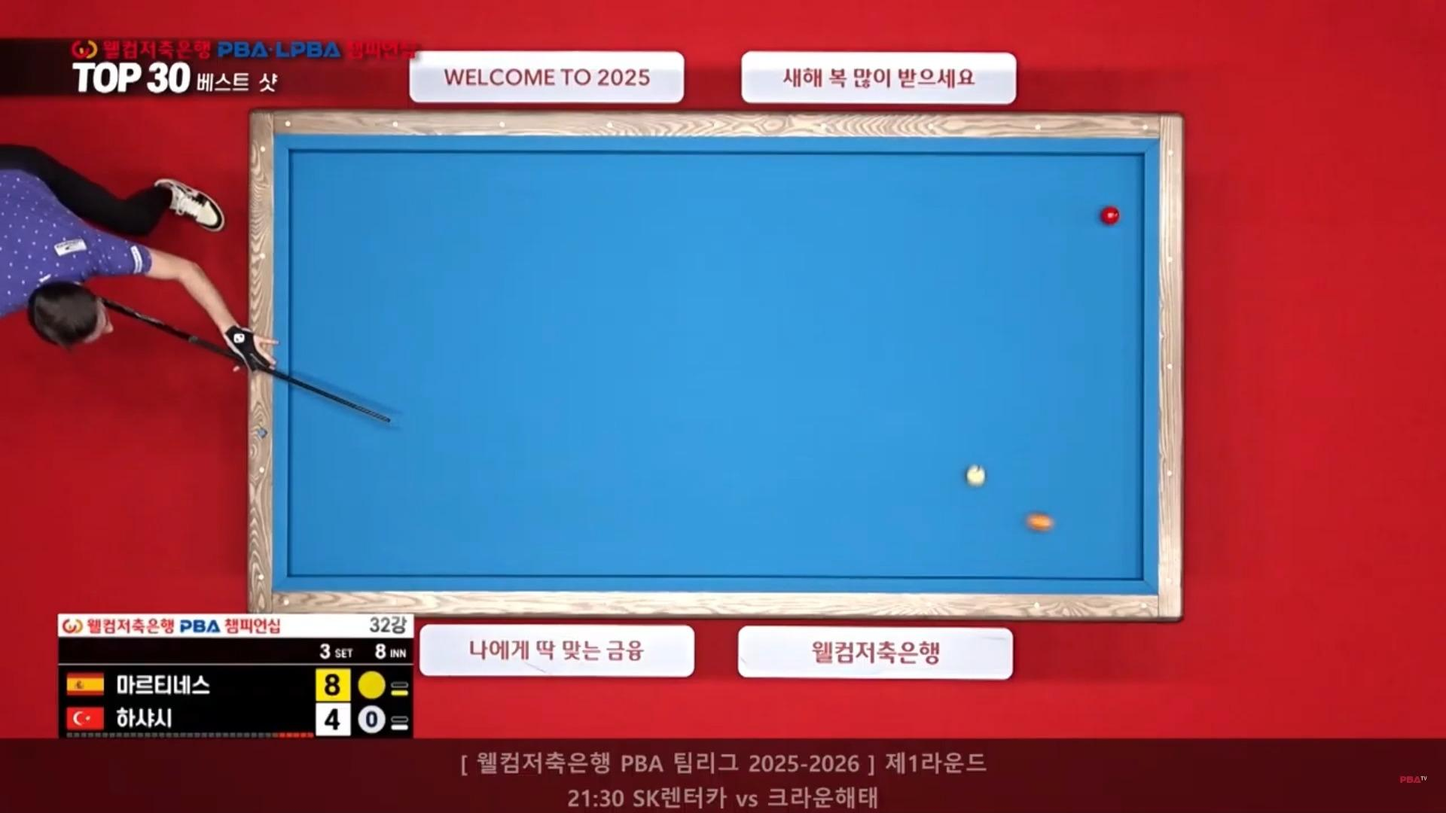-billiard-ball: (965, 463, 985, 487)
Red: (1100, 208, 1123, 226)
White: (964, 464, 989, 485)
billiard-ball-Yellow: (1024, 511, 1057, 532)
